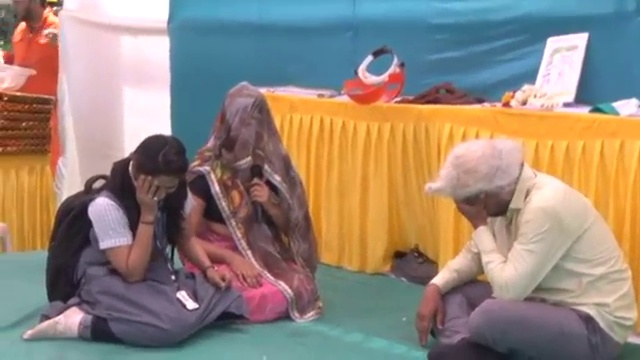helmet: (0, 62, 38, 97)
helmet_off: (437, 133, 528, 225), (120, 133, 186, 200), (216, 89, 273, 158), (10, 0, 51, 25)
person: (398, 132, 640, 342), (24, 134, 217, 344), (181, 89, 319, 318), (4, 0, 60, 94)
